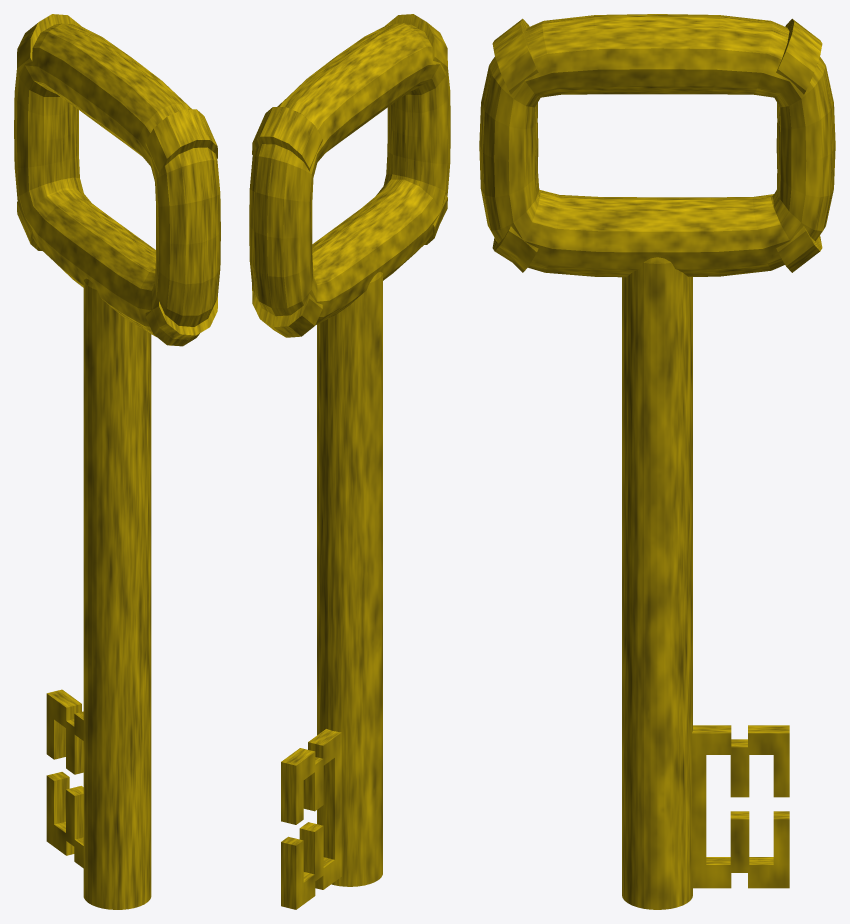
File: Key_gold.fbx
3 renders of one model, left to right at view 1: azimuth 30°, elevation 25°; view 2: azimuth 150°, elevation 25°; view 3: azimuth 270°, elevation 25°, orthographic. The views are drawn at different scales.
Parts seen in each view (by area): view 1: Key_gold_Baked; view 2: Key_gold_Baked; view 3: Key_gold_Baked.
Part boxes in pixels (<box>): Key_gold_Baked: <box>14,14,220,909</box>; Key_gold_Baked: <box>249,14,450,909</box>; Key_gold_Baked: <box>479,14,835,909</box>.
Size of the model in its own units: 1 by 13.6 by 5.
